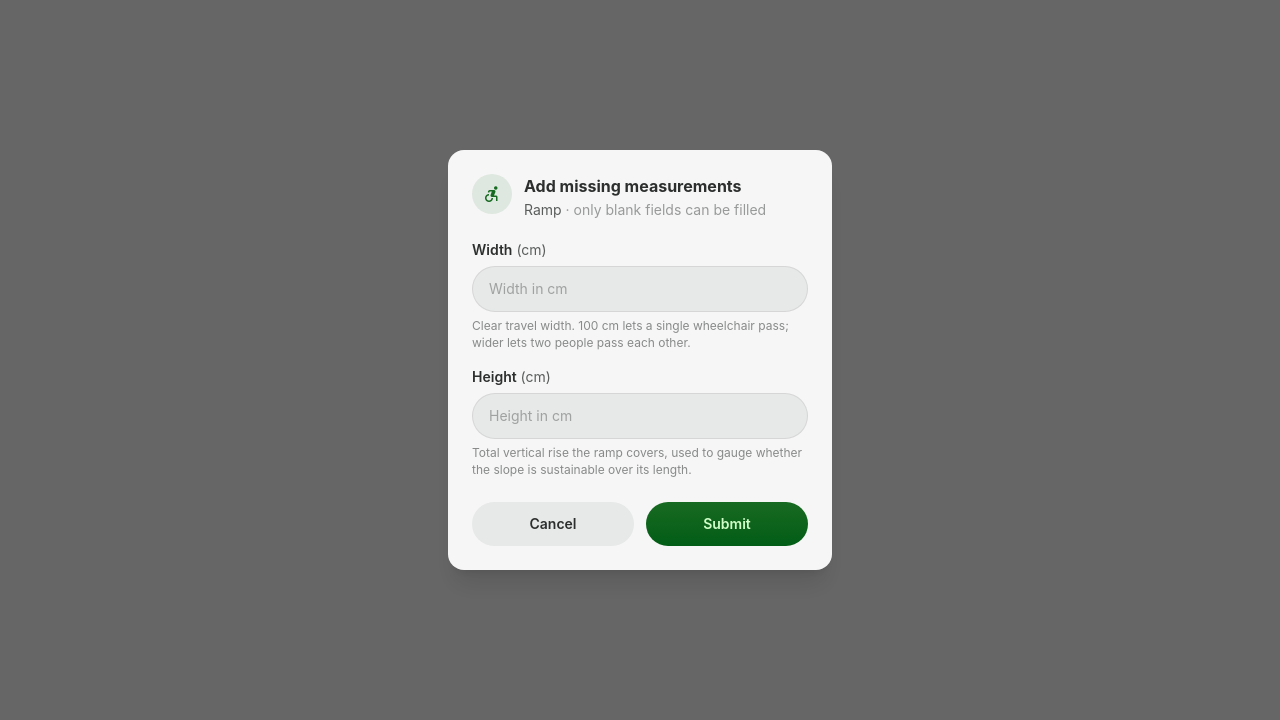
Scenario: ContributeMeasurementsPanel › error handling › shows a generic fallback message when the error has no message text
The image size is (1280, 720).
Type "120" into the number field with placeholder "Width in cm" at (640, 289), box [472,266,808,312]
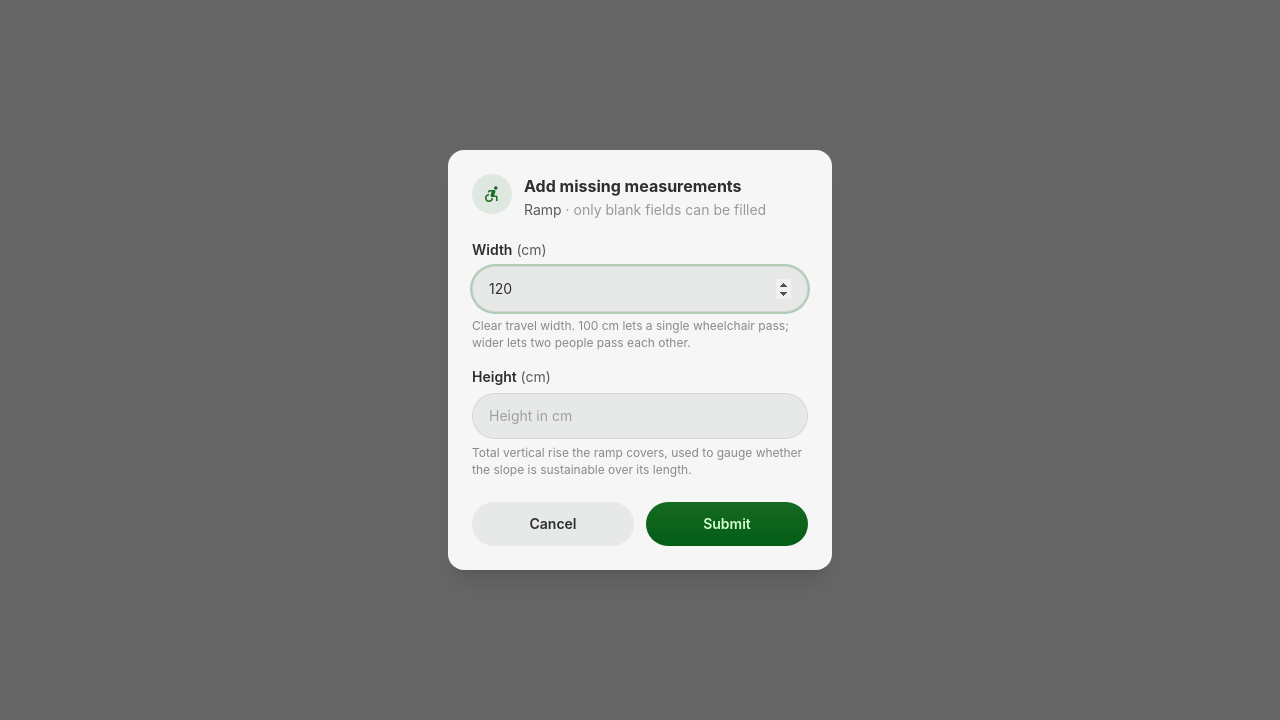
Click the button "Submit" at (727, 524), box [646,502,808,546]
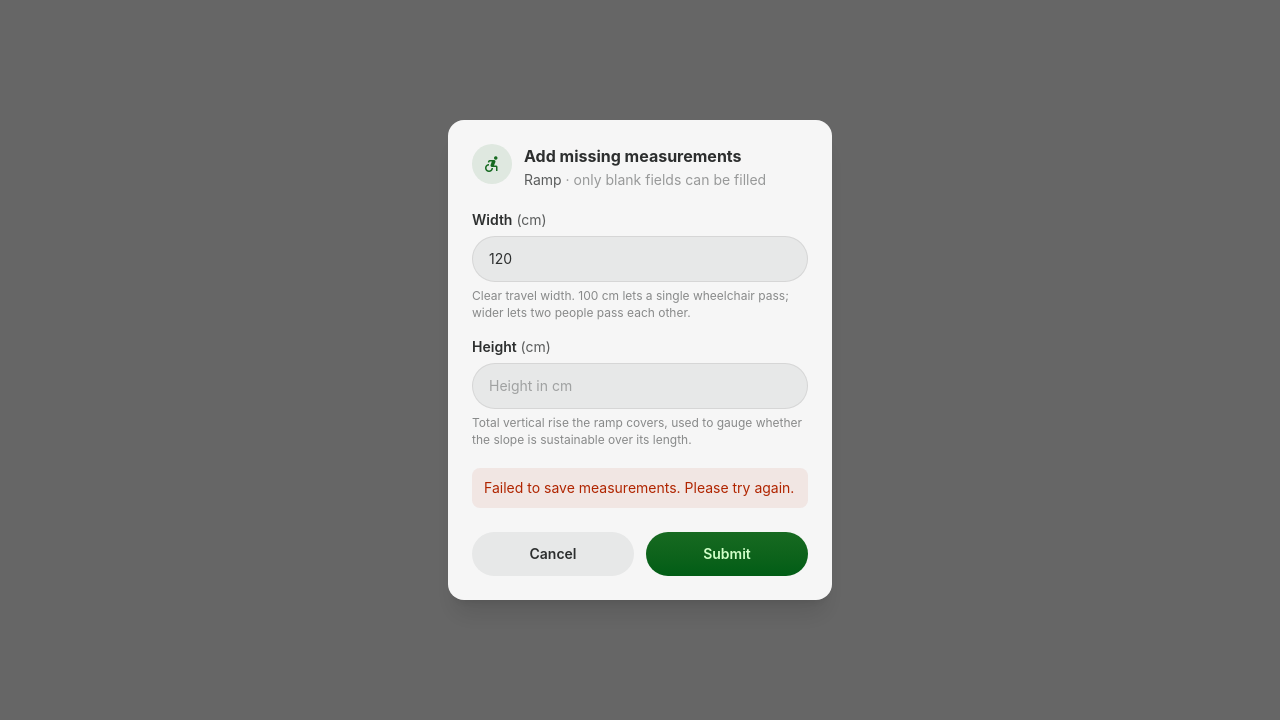
Check: the message "Failed to save measurements. Please try again." is shown, box [472,468,808,508]
Check: the message shows "Failed to save measurements", box [484,479,794,496]
